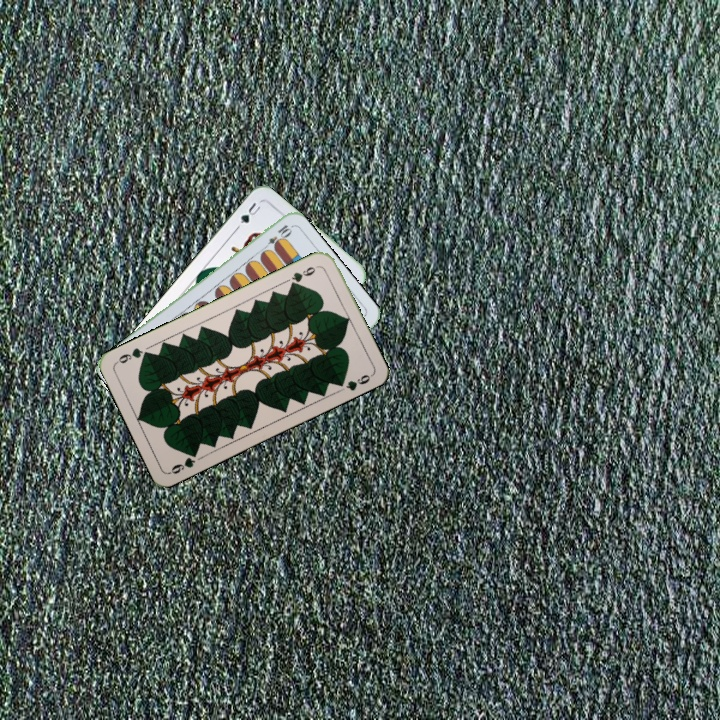E10: (259, 221, 294, 253)
G9: (166, 446, 201, 477), (286, 262, 321, 289)
GU: (236, 198, 263, 226)
